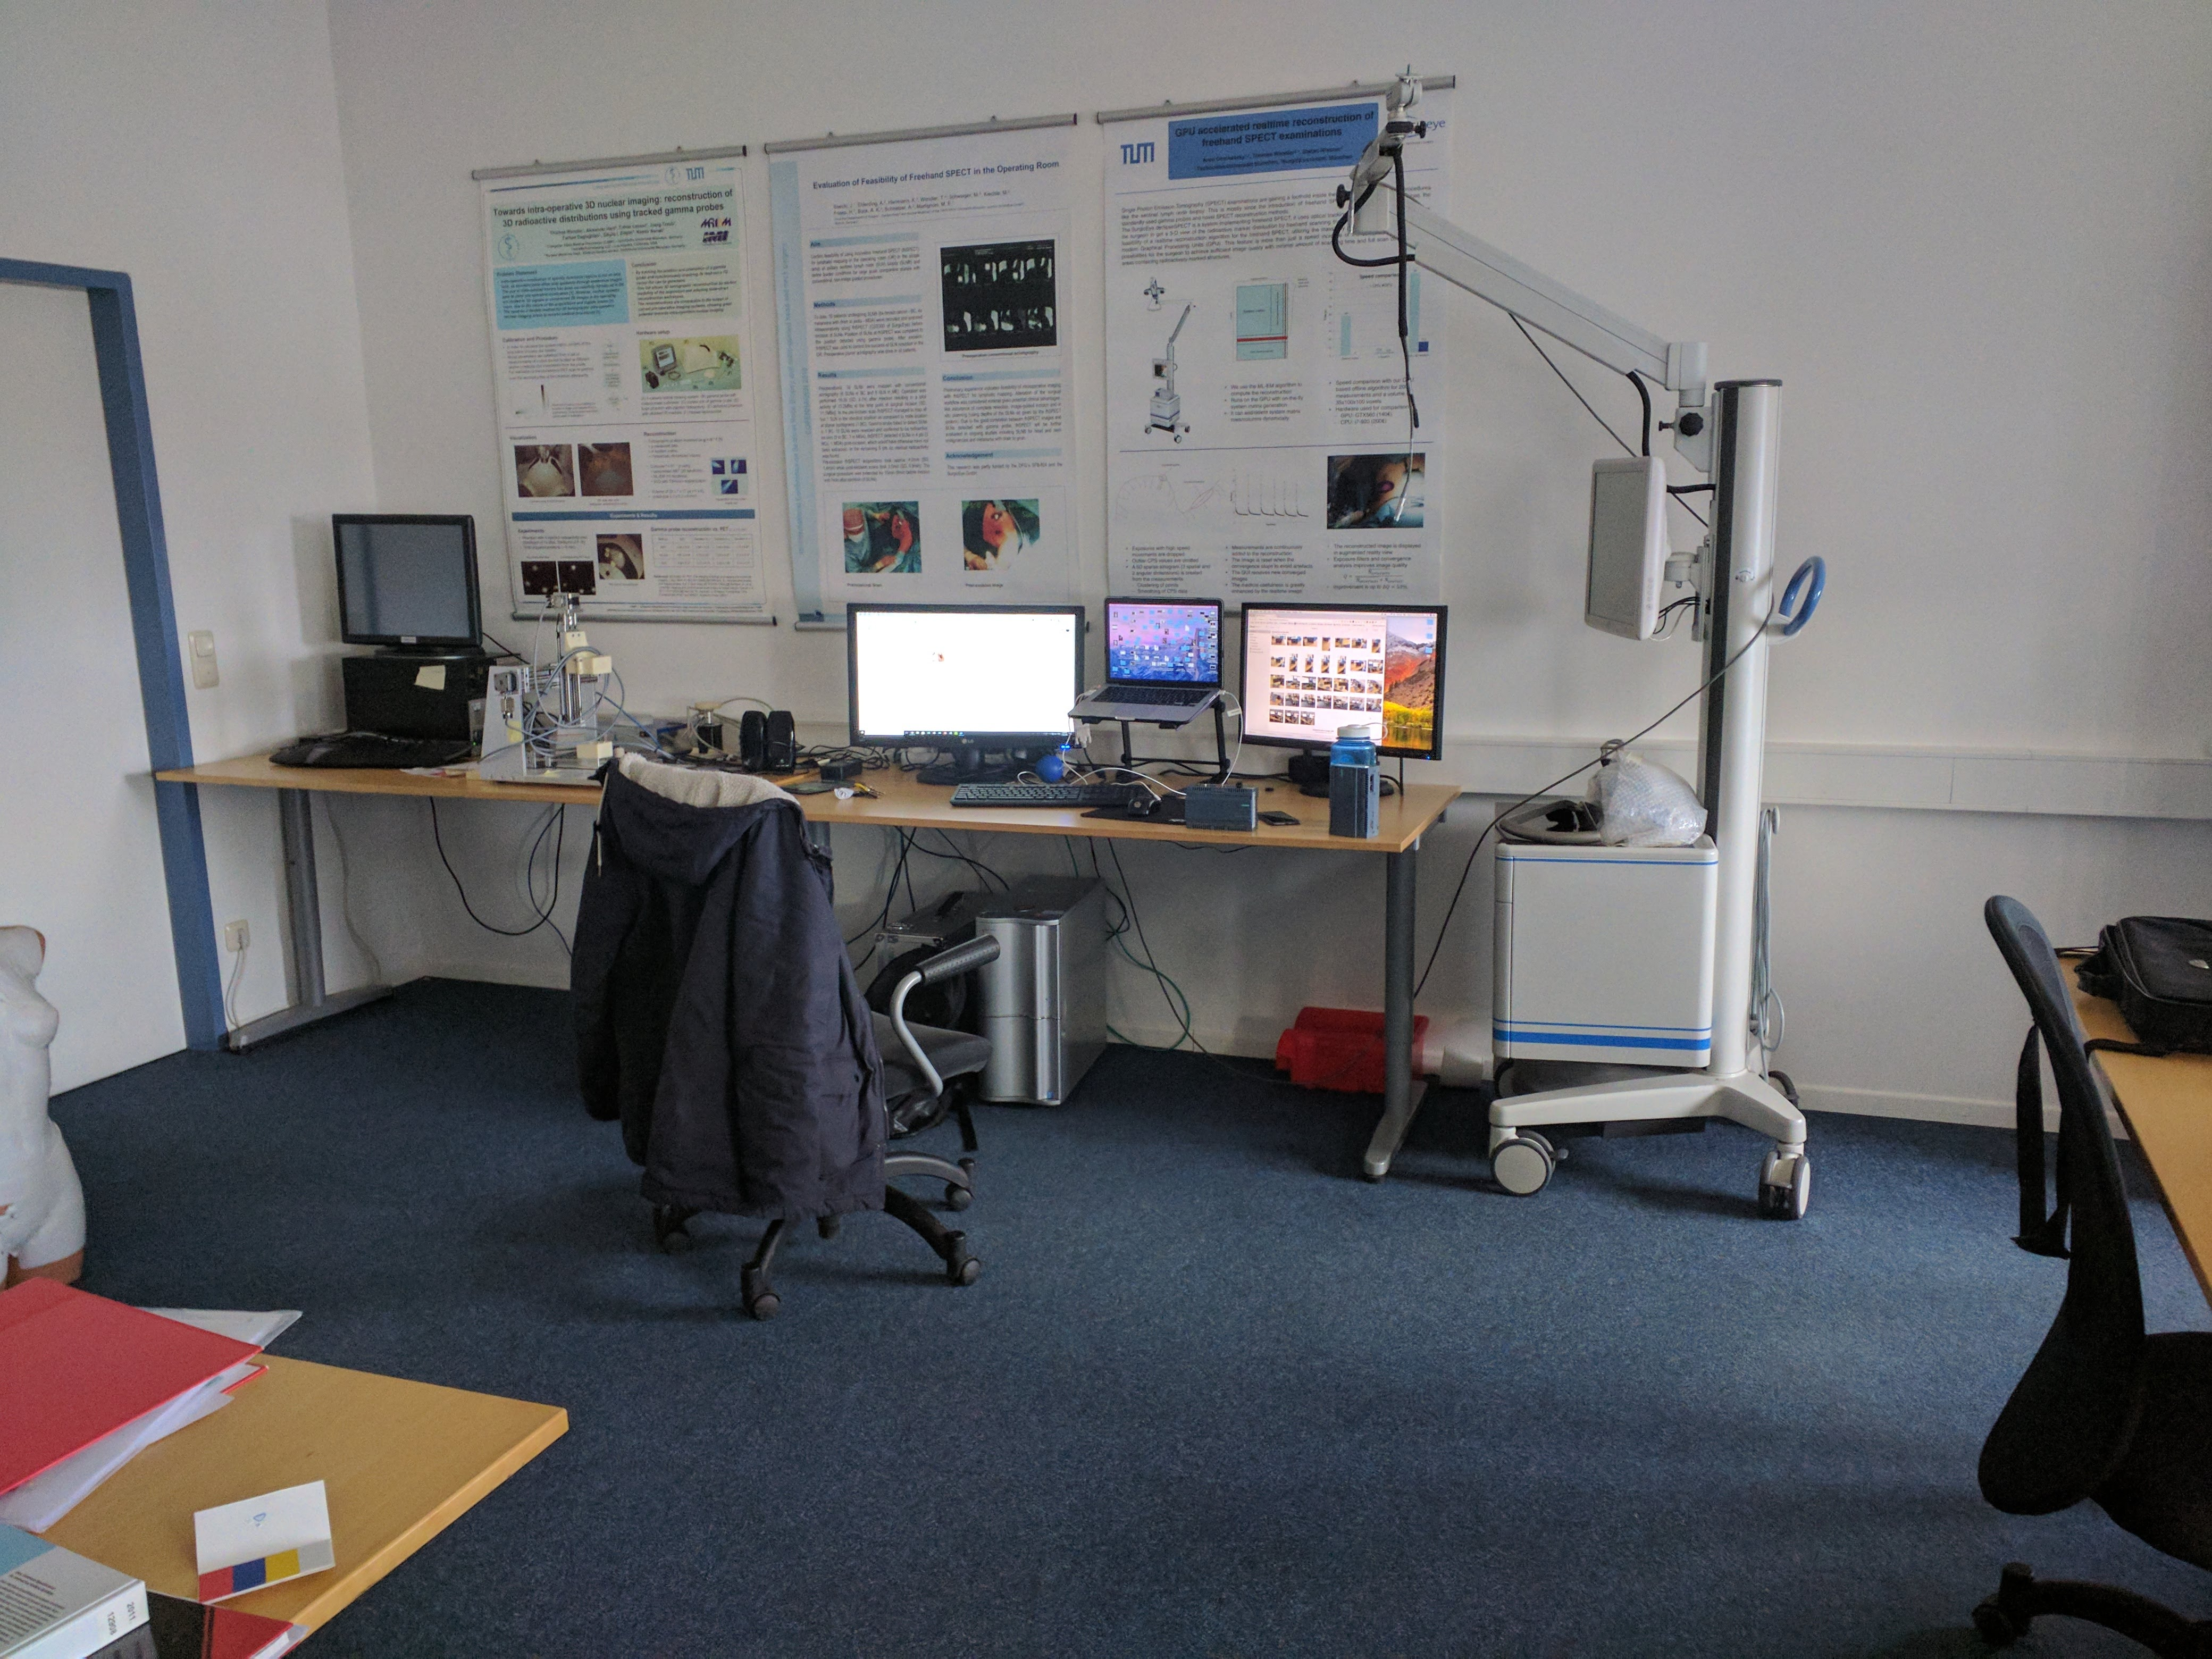device: (1329, 763, 1381, 840), (1184, 782, 1259, 833)
